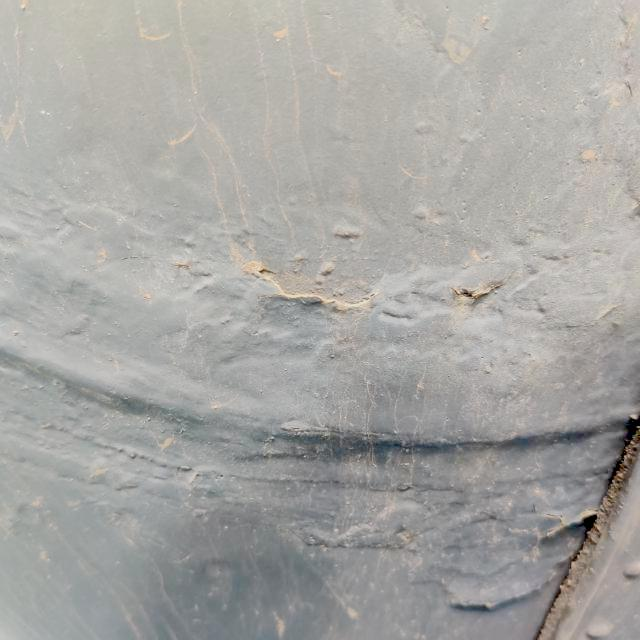paint-off: (246, 252, 384, 332), (439, 277, 506, 321)
